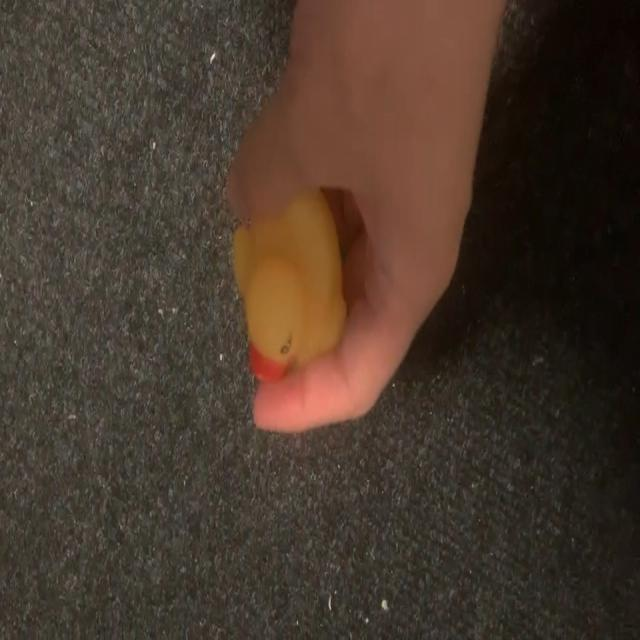rubber-duck: (233, 189, 344, 378)
